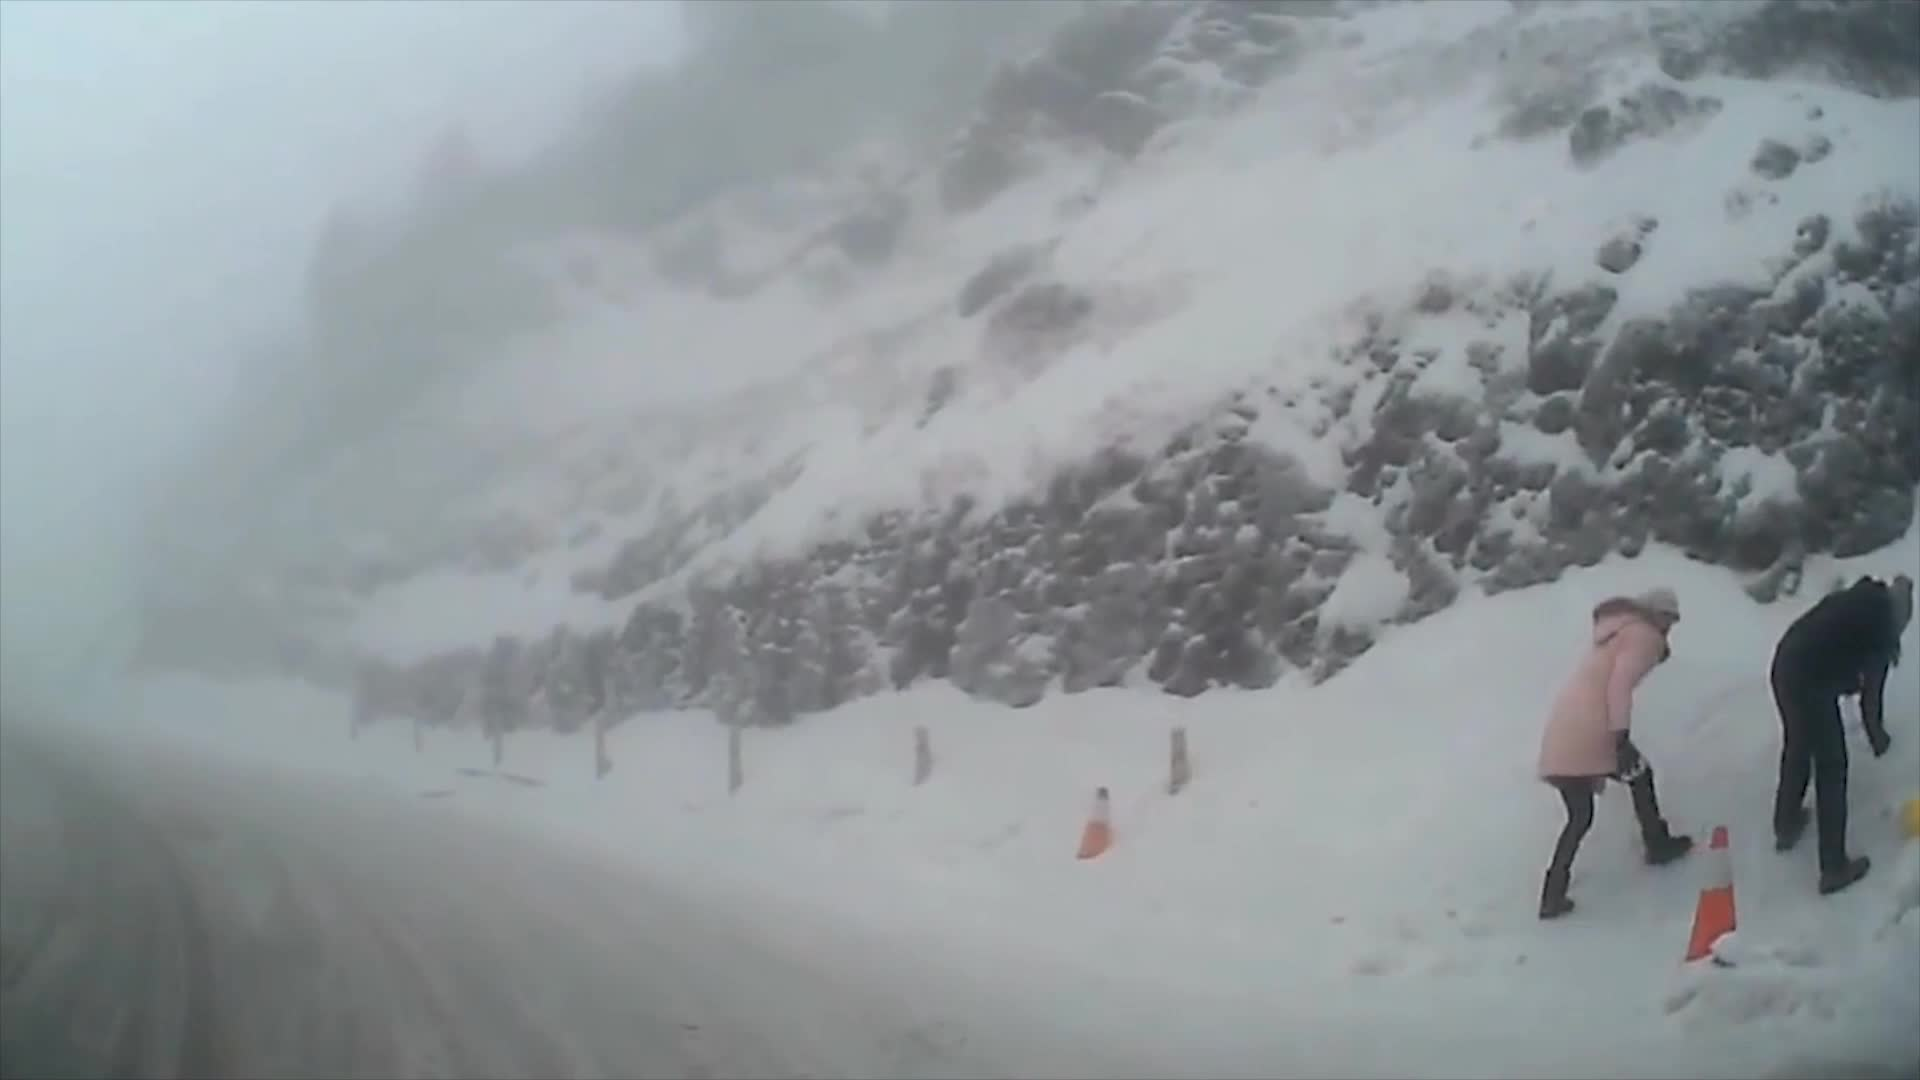pedestrian: (1539, 590, 1695, 920), (1771, 575, 1911, 899)
